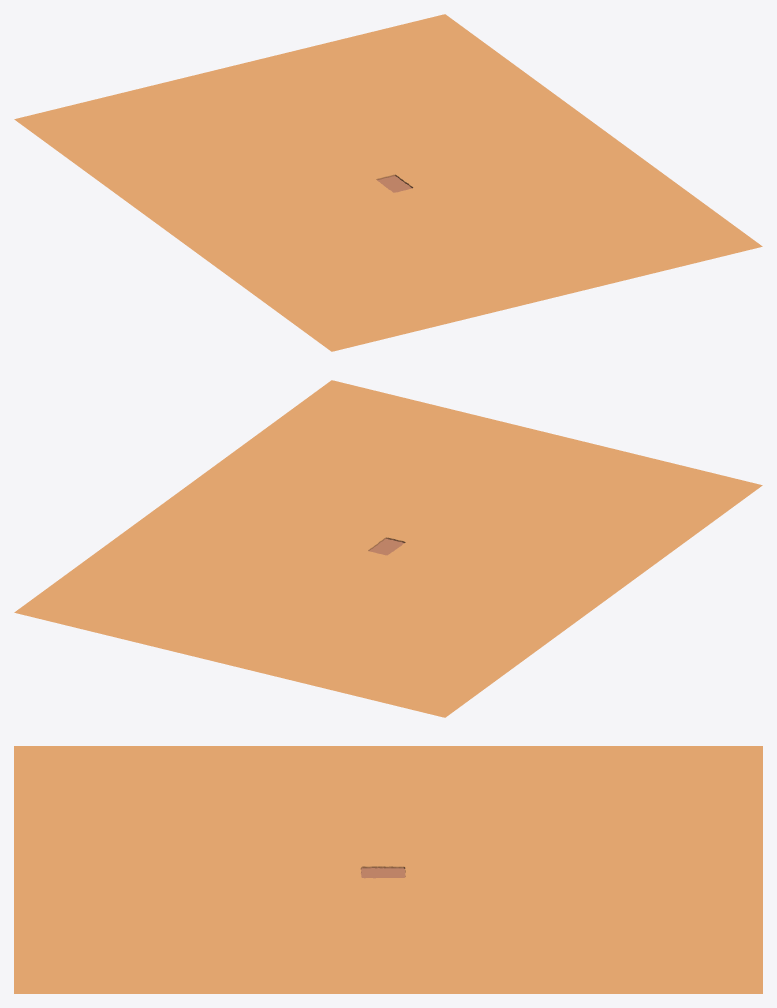
File: MainPlatform.fbx
The picture shows the model from 3 angles, top to bottom: view 1: azimuth 30°, elevation 25°; view 2: azimuth 150°, elevation 25°; view 3: azimuth 270°, elevation 25°; orthographic projection. The views are drawn at different scales.
Visible parts, largest first — view 1: Cube.003; view 2: Cube.003; view 3: Cube.003.
Part boxes in pixels (left/top/right/bottom): Cube.003: left=14, top=14, right=762, bottom=351; Cube.003: left=14, top=380, right=762, bottom=717; Cube.003: left=14, top=746, right=762, bottom=993.
Bounding box in the file's own units: 10015 × 33.8 × 12783.
